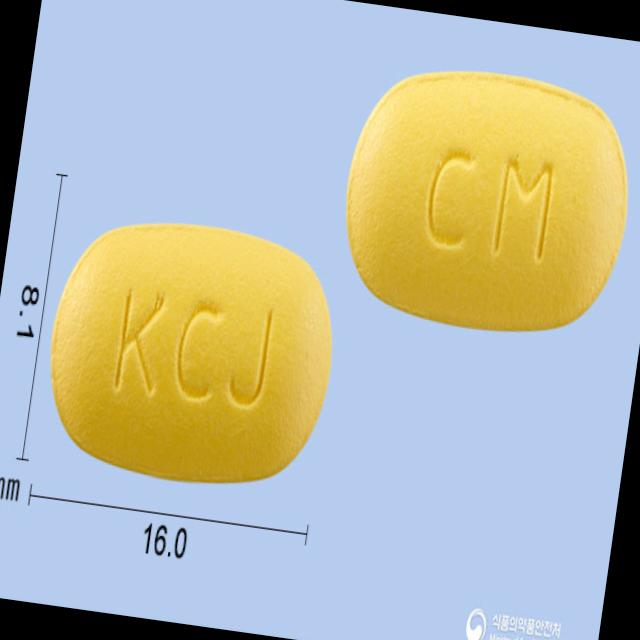Clamon Tab: (29, 195, 354, 506), (329, 54, 640, 348)
